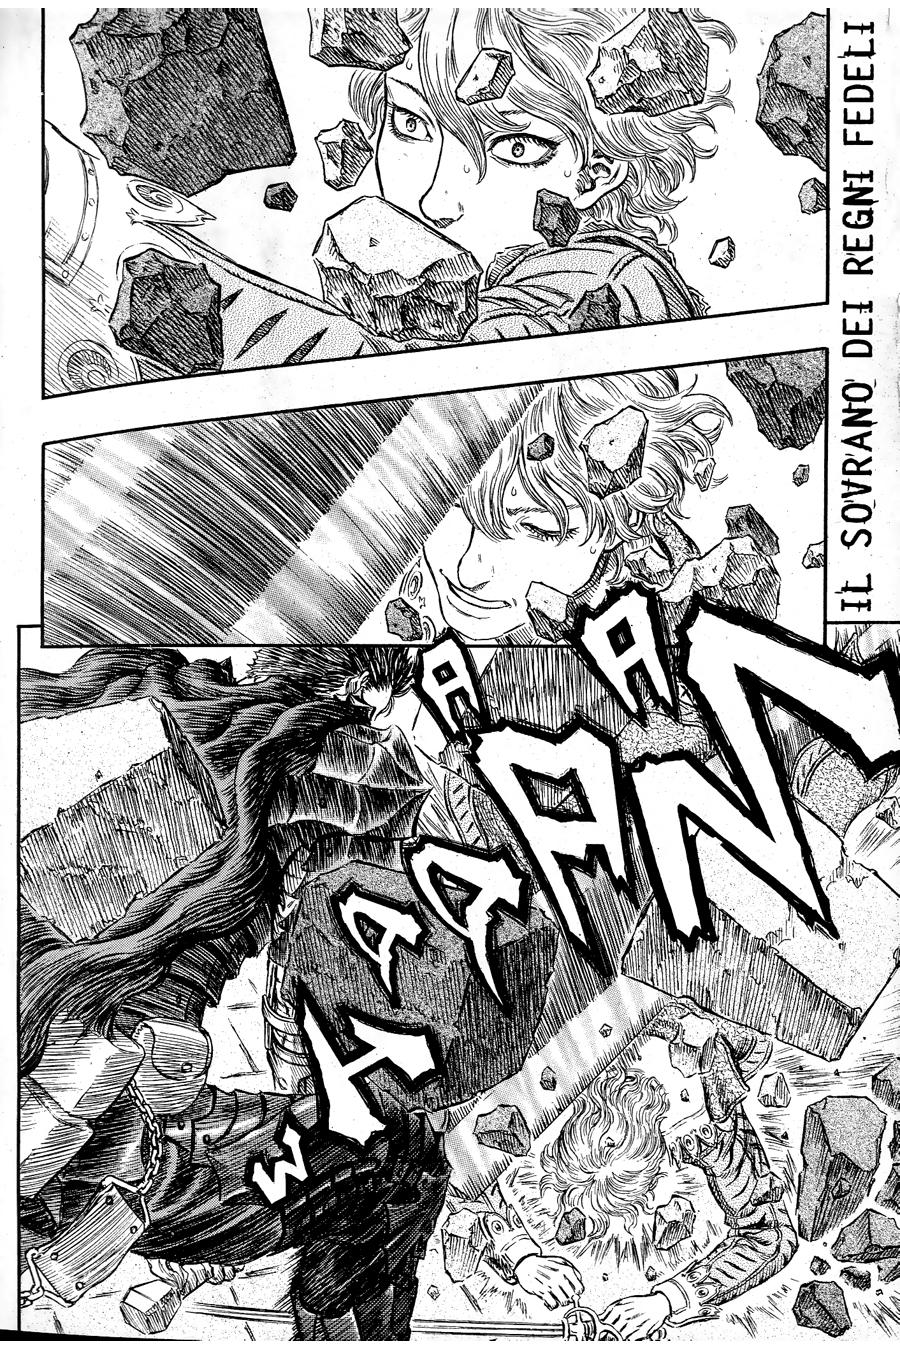Vignetta: (2, 587, 900, 1346), (40, 9, 828, 397), (42, 346, 824, 642)
